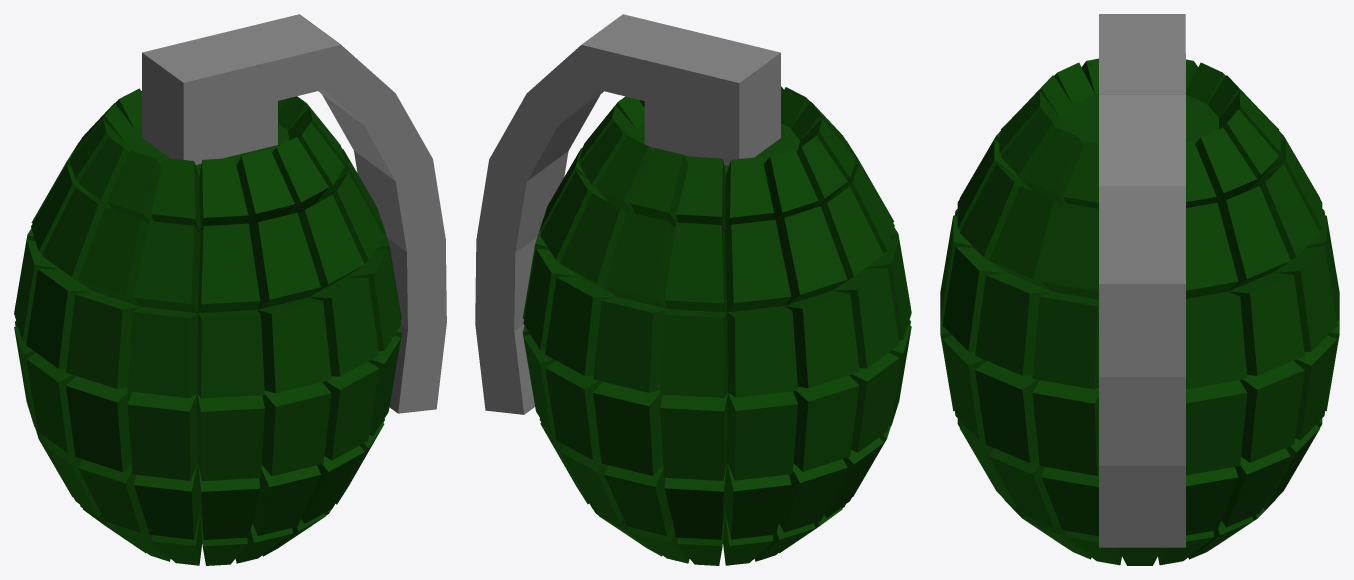
File: Grenade.fbx
The picture shows the model from 3 angles, left to right: view 1: azimuth 30°, elevation 25°; view 2: azimuth 150°, elevation 25°; view 3: azimuth 270°, elevation 25°; orthographic projection. The views are drawn at different scales.
Visible parts, largest first — view 1: Grenade, Pin; view 2: Grenade, Pin; view 3: Grenade, Pin.
Boxes of the visible parts, x1,y1,x2,y2 form: Grenade: [14, 88, 401, 565]; Pin: [142, 14, 446, 413]; Grenade: [522, 86, 911, 565]; Pin: [475, 14, 780, 414]; Grenade: [940, 58, 1339, 565]; Pin: [1099, 14, 1185, 547].
Bounding box in the file's own units: 269 × 317 × 232.
